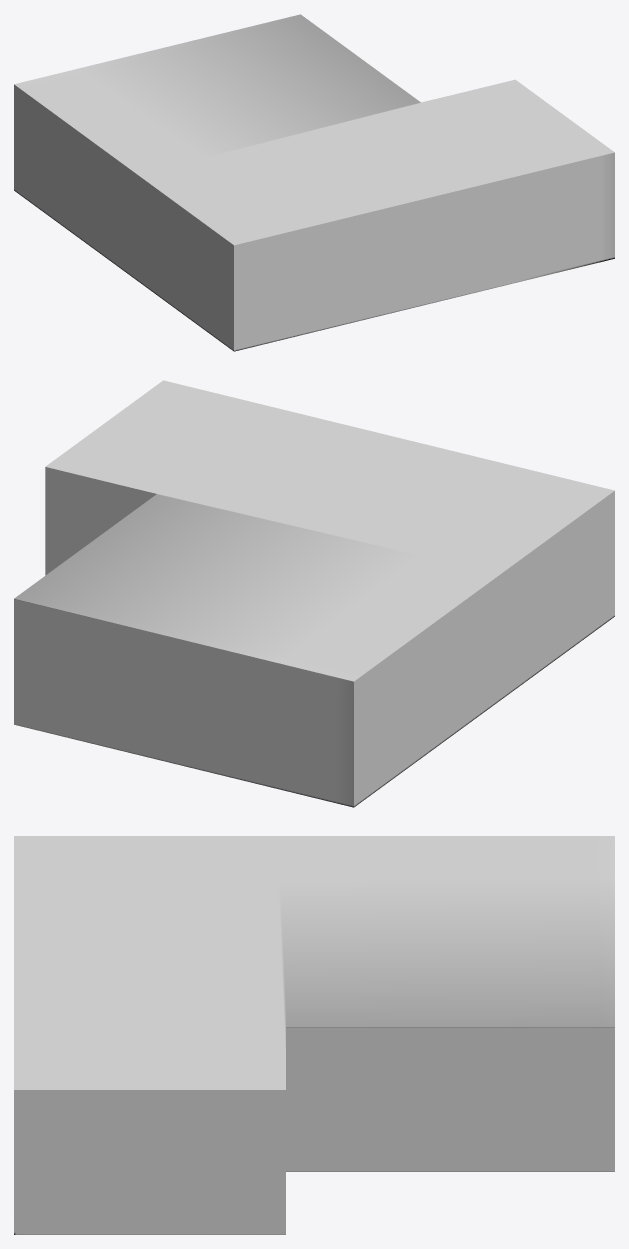
Rendered from Apartment_painted.fbx.
3 renders of one model, top to bottom at view 1: azimuth 30°, elevation 25°; view 2: azimuth 150°, elevation 25°; view 3: azimuth 270°, elevation 25°, orthographic. The views are drawn at different scales.
Parts seen in each view (by area): view 1: Apartment; view 2: Apartment; view 3: Apartment.
Boxes of the visible parts, x1,y1,x2,y2 form: Apartment: (14,14,614,351); Apartment: (14,380,614,807); Apartment: (14,836,614,1234).
Bounding box in the file's own units: 14.51 × 3.87 × 14.52.
Materials: 1 (1 with a texture image).
